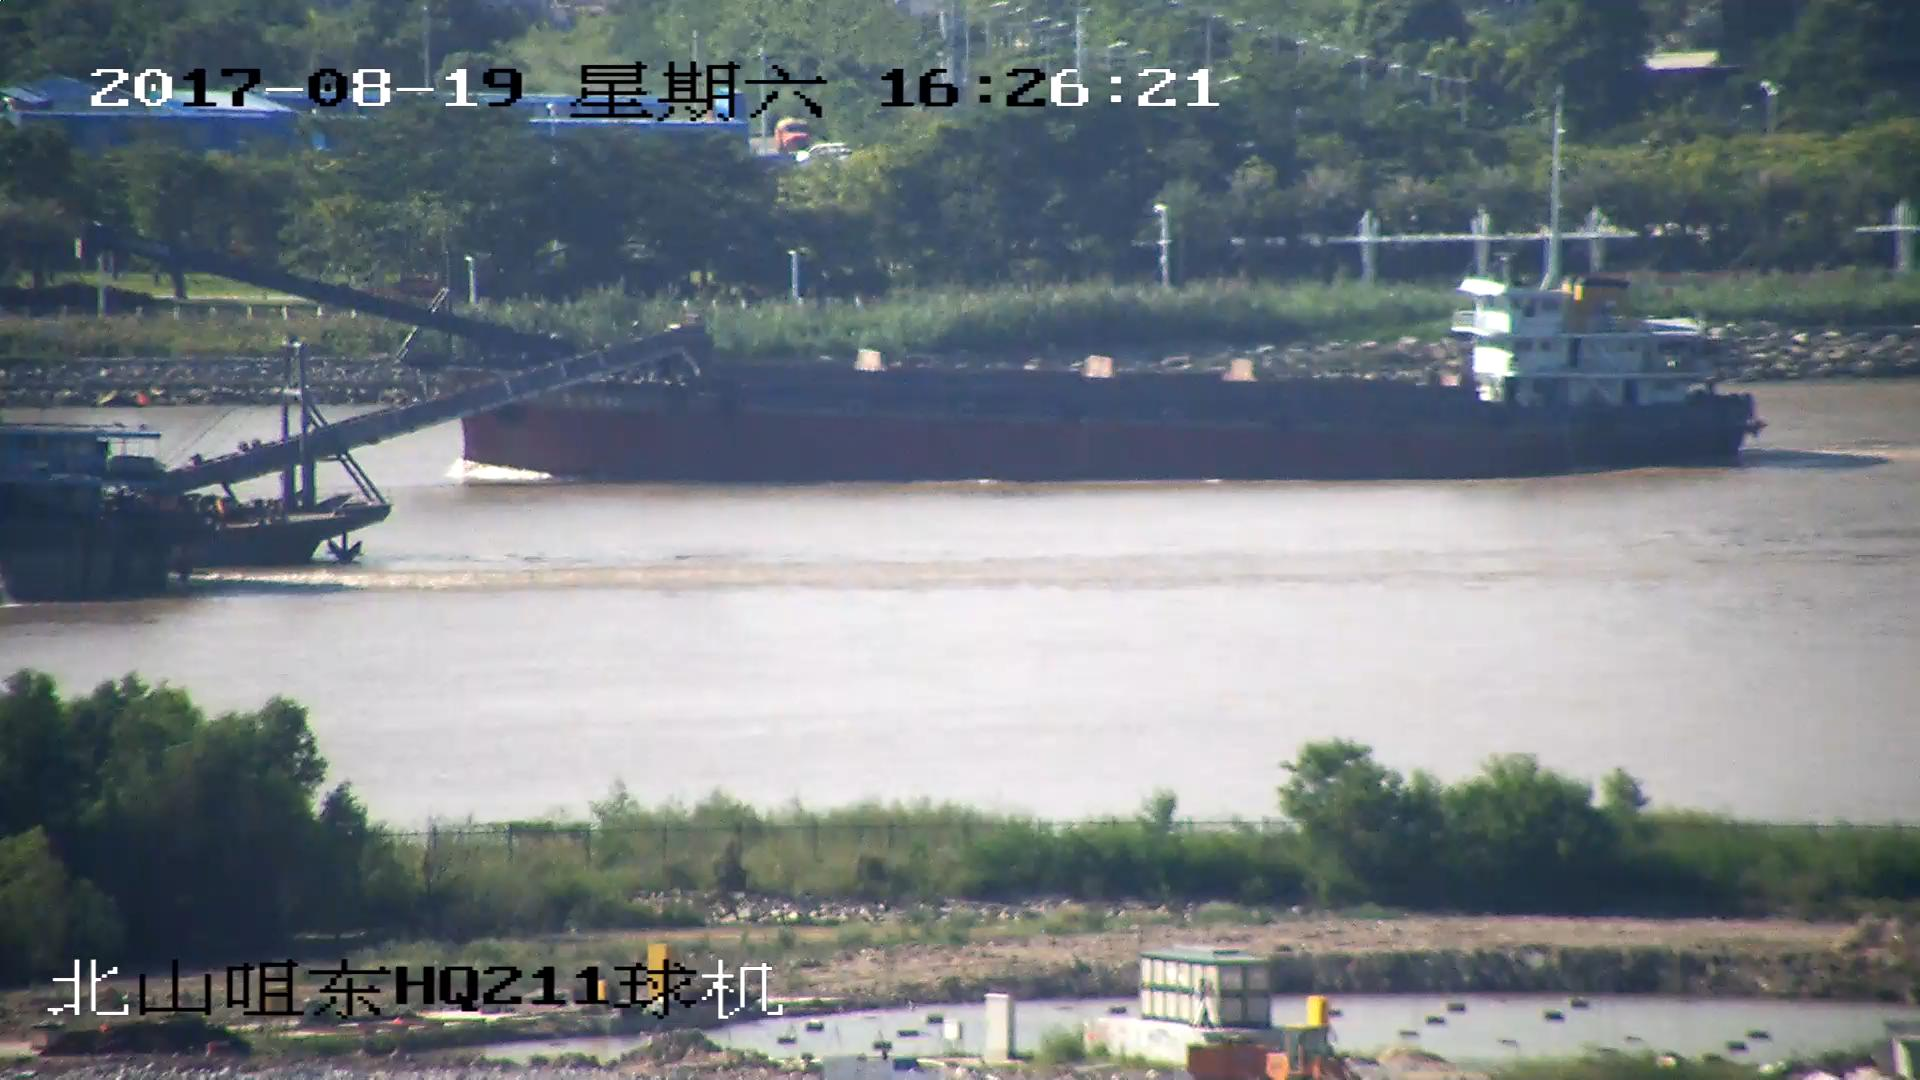bulk cargo carrier: (79, 226, 1759, 476), (1, 325, 696, 562)
